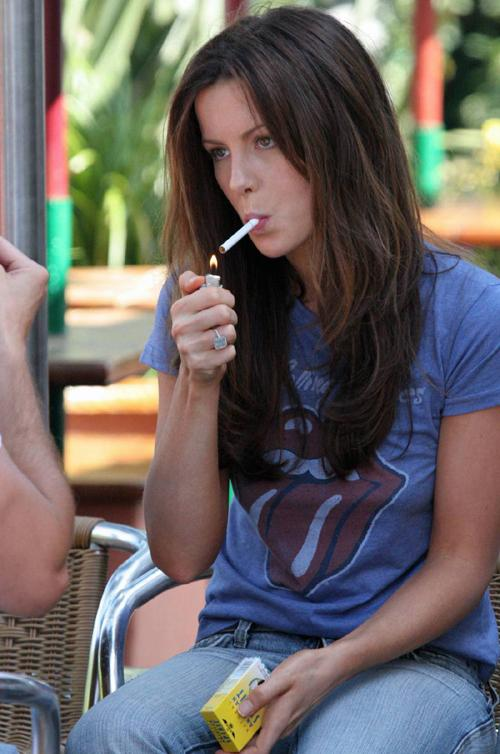person: (63, 10, 500, 754)
